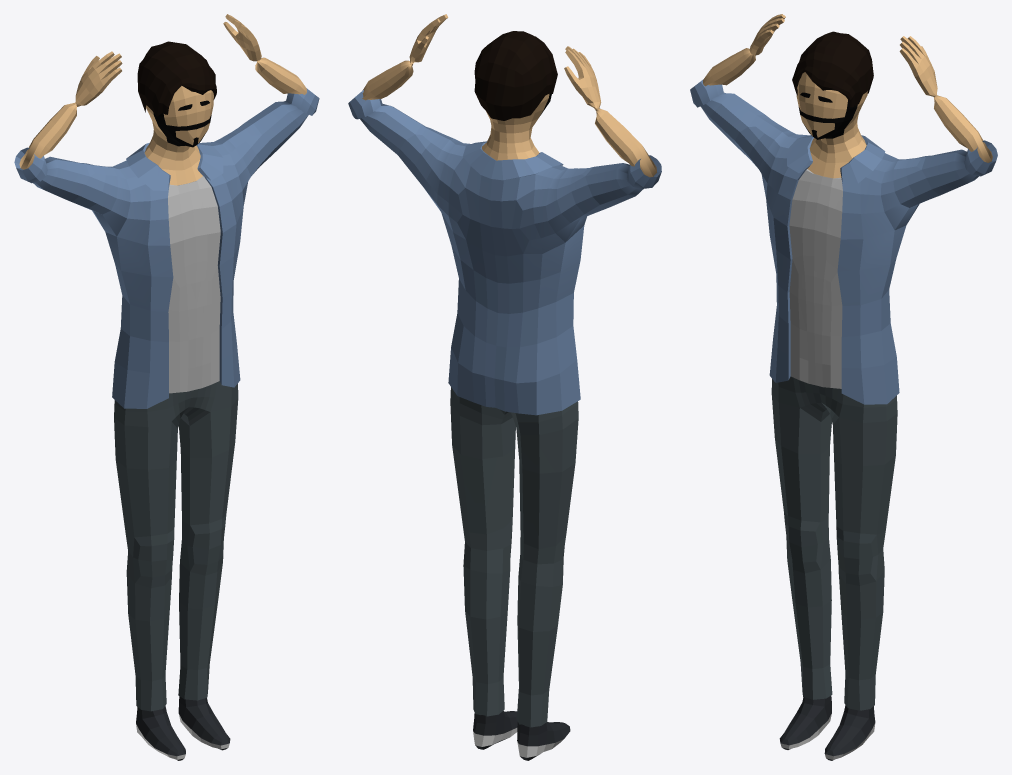
File: hombre.obj
3 renders of one model, left to right at view 1: azimuth 30°, elevation 25°; view 2: azimuth 150°, elevation 25°; view 3: azimuth 330°, elevation 25°, orthographic. The views are drawn at different scales.
Parts seen in each view (by area): view 1: ManCasual2; view 2: ManCasual2; view 3: ManCasual2.
Part boxes in pixels (bbox=[...]): ManCasual2: bbox=[14, 14, 319, 760]; ManCasual2: bbox=[348, 14, 661, 760]; ManCasual2: bbox=[690, 14, 997, 760].
Size of the model in its own units: 33.67 by 75.55 by 9.94.
Materials: 1 (1 with a texture image).
